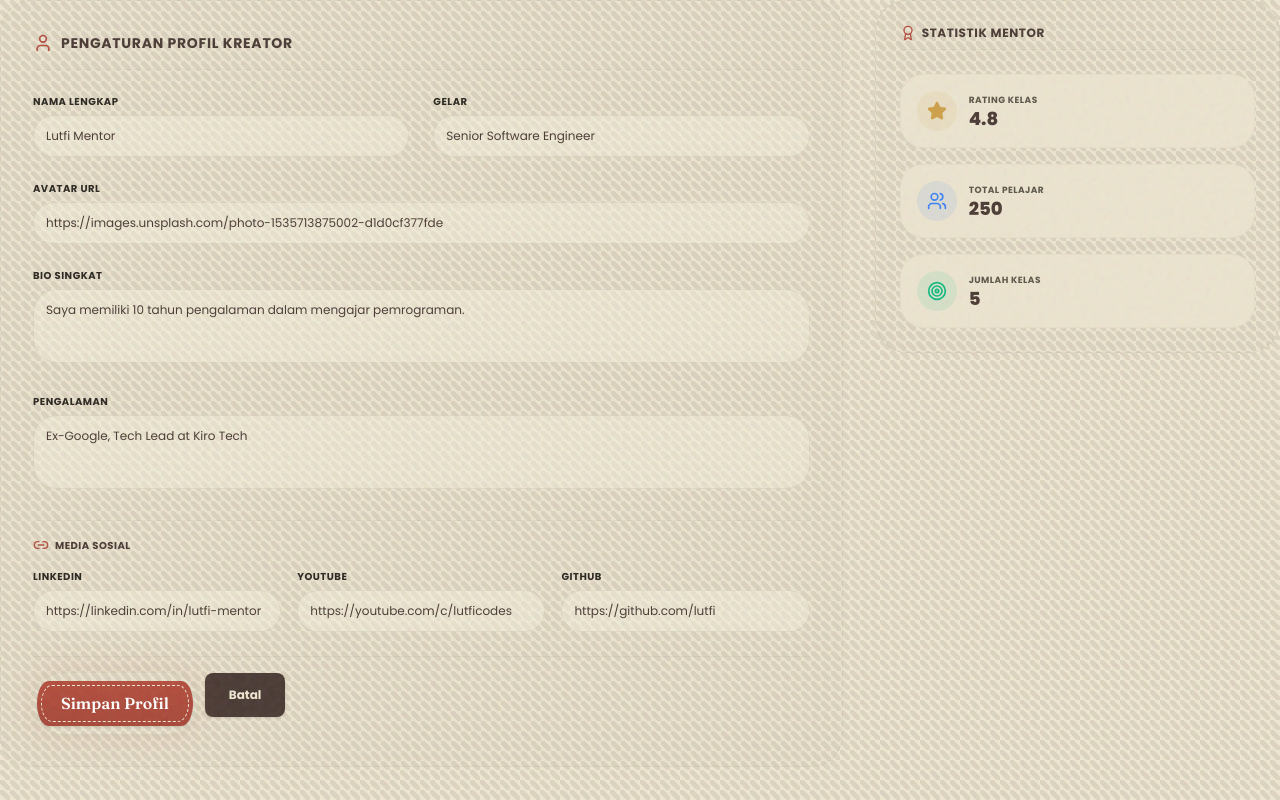
CreatorProfileEditor › validates social links and name length before saving
// Input invalid name (too short, min 2)
Replace the text in the field labelled "Nama Lengkap" with "A" at (221, 136), box [33, 115, 409, 157]
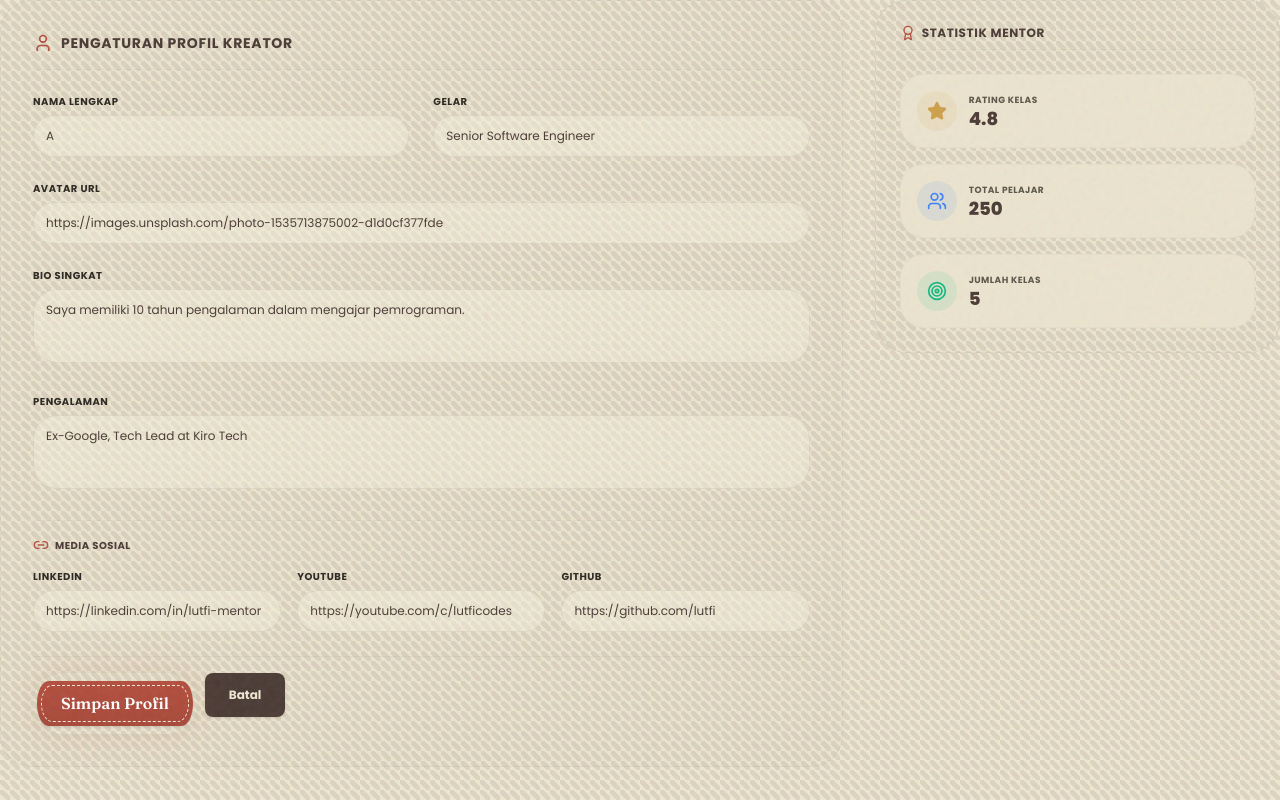
Click the button "Simpan Profil" at (115, 704), box [37, 681, 193, 726]
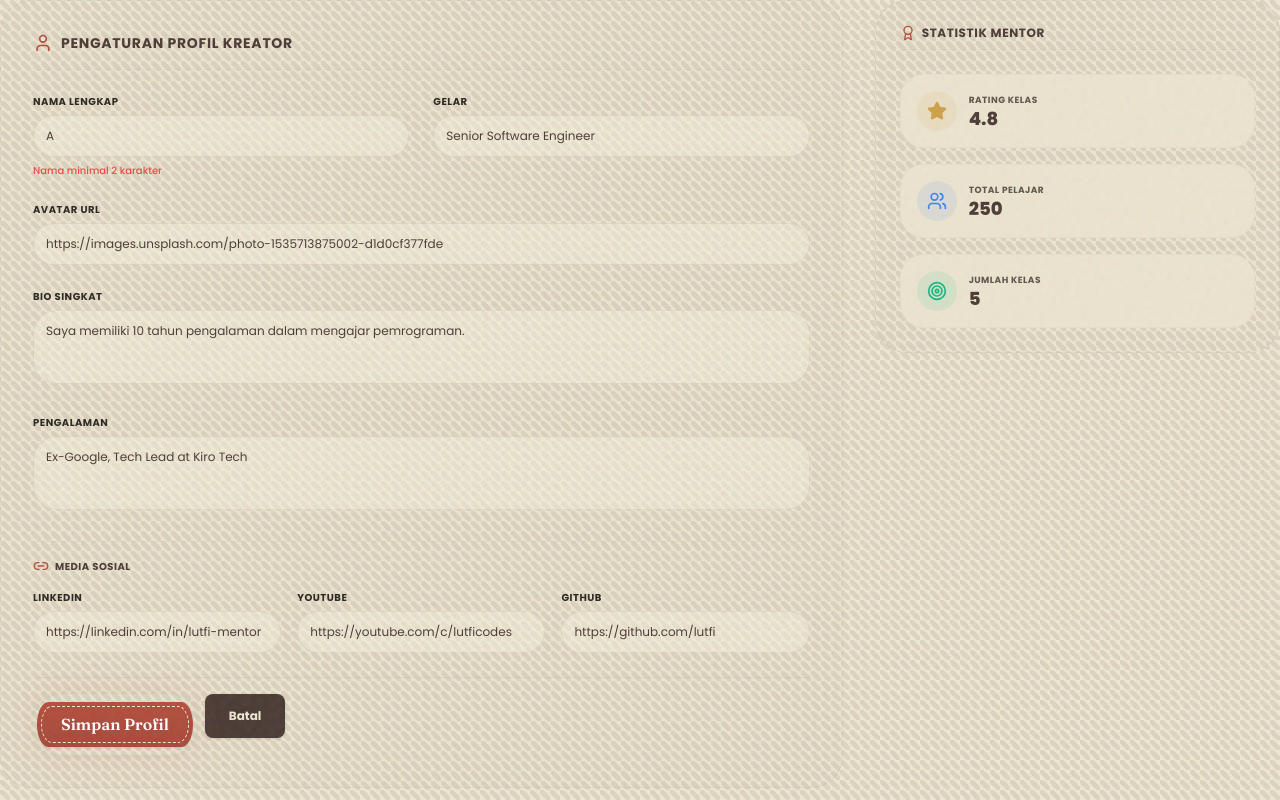
Now the text "Nama minimal 2 karakter" is shown, box [33, 163, 162, 178]
// Input invalid URL
Replace the text in the field labelled "Nama Lengkap" with "Valid Name" at (221, 136), box [33, 115, 409, 157]
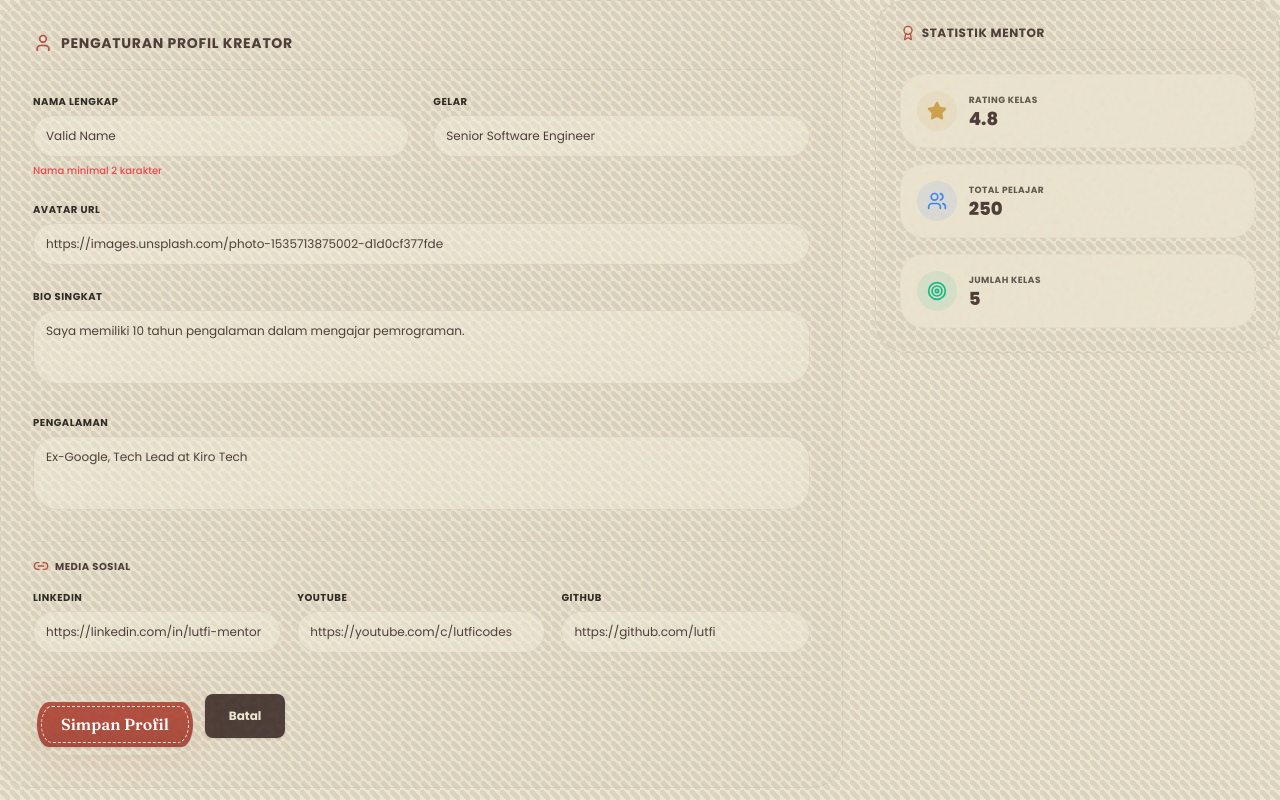
Replace the text in the field labelled "LinkedIn" with "not-a-url" at (157, 632), box [33, 611, 281, 653]
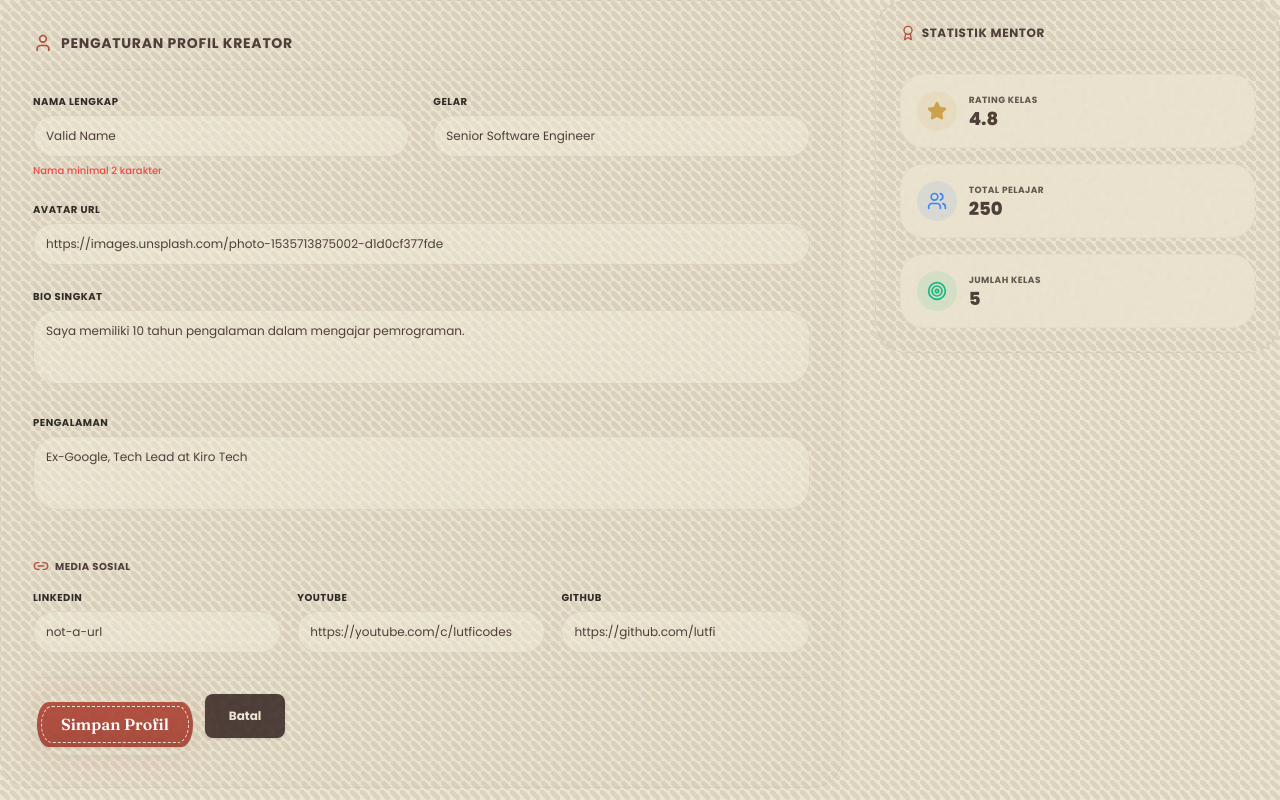
Click the button "Simpan Profil" at (115, 725), box [37, 702, 193, 747]
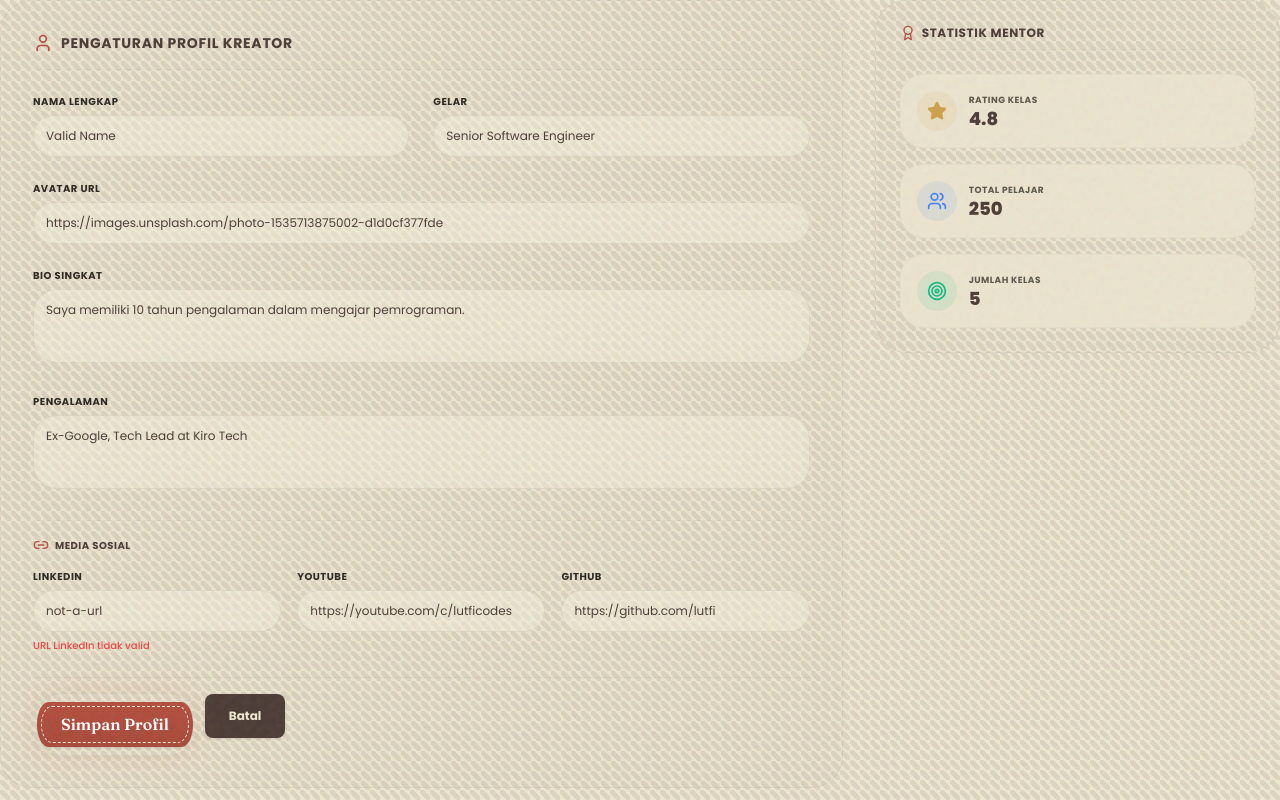
Now the text "URL LinkedIn tidak valid" is shown, box [33, 638, 150, 653]
